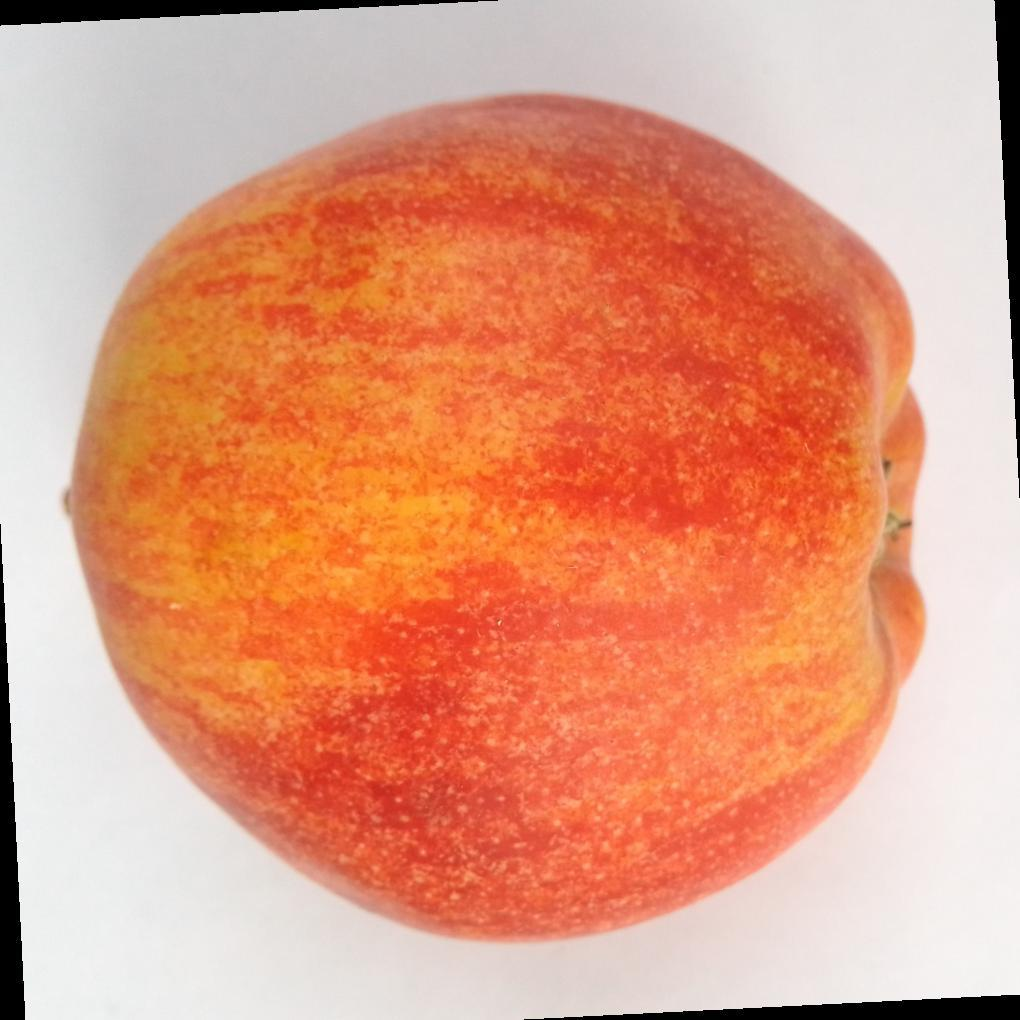FreshGuava: (63, 94, 925, 946)
